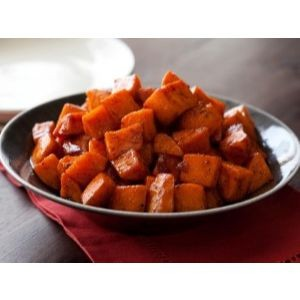sweet potato_brain food: (27, 75, 273, 207)
